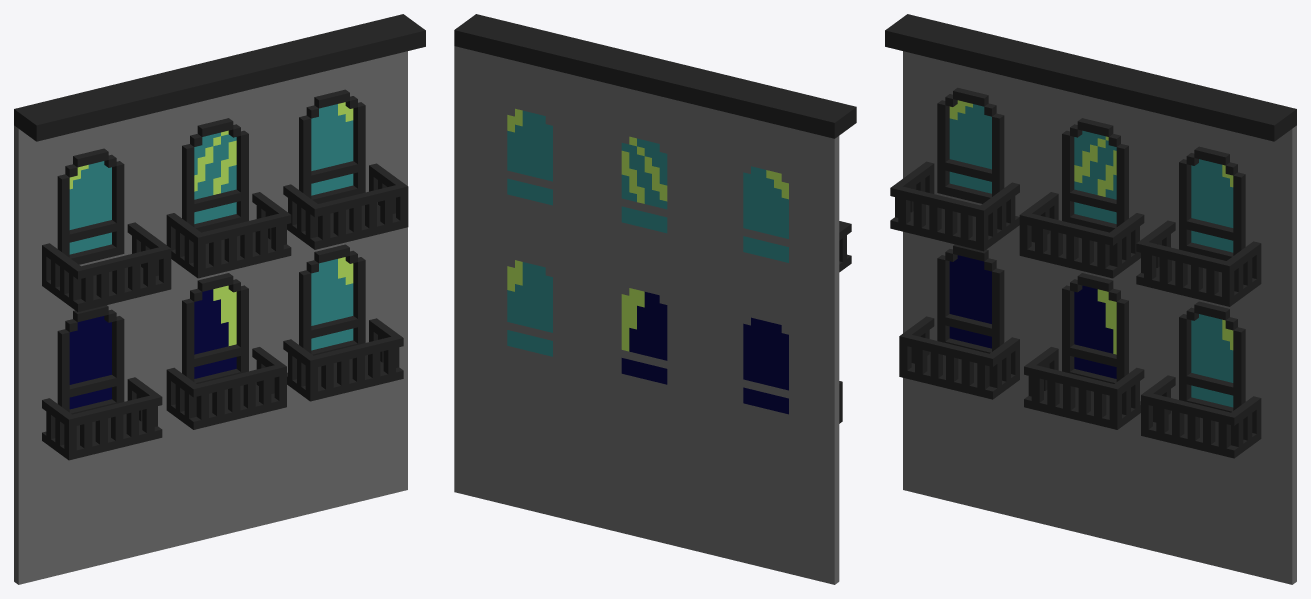
The model's file is Walls-2.obj.
The picture shows the model from 3 angles, left to right: view 1: azimuth 30°, elevation 25°; view 2: azimuth 150°, elevation 25°; view 3: azimuth 330°, elevation 25°; orthographic projection. The views are drawn at different scales.
Parts seen in each view (by area): view 1: Walls-2; view 2: Walls-2; view 3: Walls-2.
Boxes of the visible parts, x1,y1,x2,y2 form: Walls-2: (14, 14, 425, 584); Walls-2: (454, 14, 856, 584); Walls-2: (885, 14, 1296, 584).
Size of the model in its own units: 50 by 58 by 9.
1 material, 1 textured.
